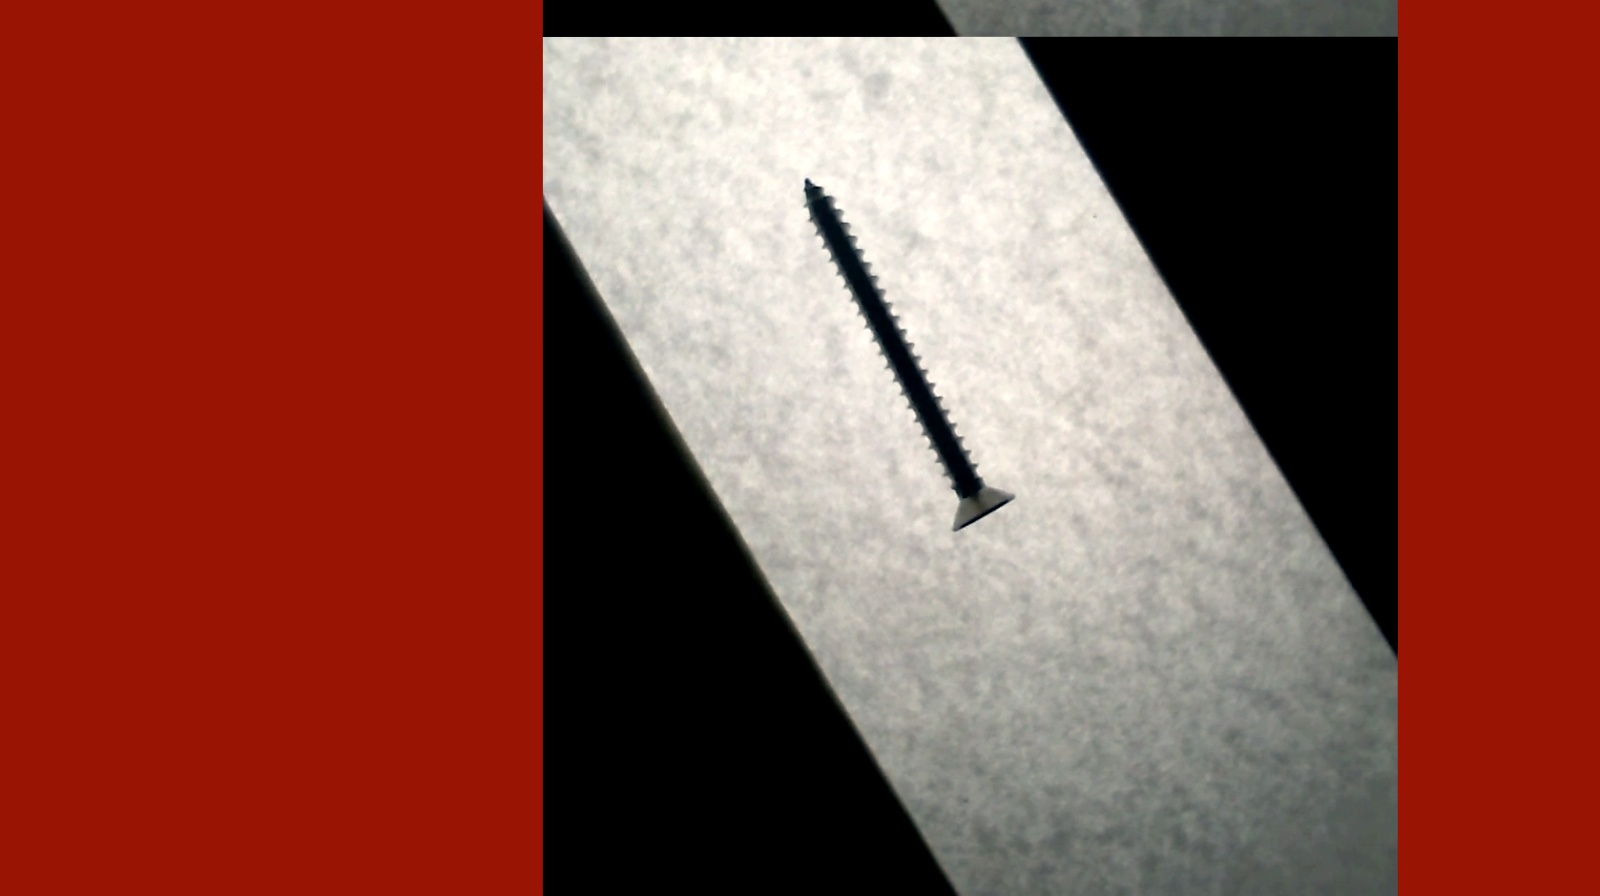S002: (787, 163, 1020, 549)
